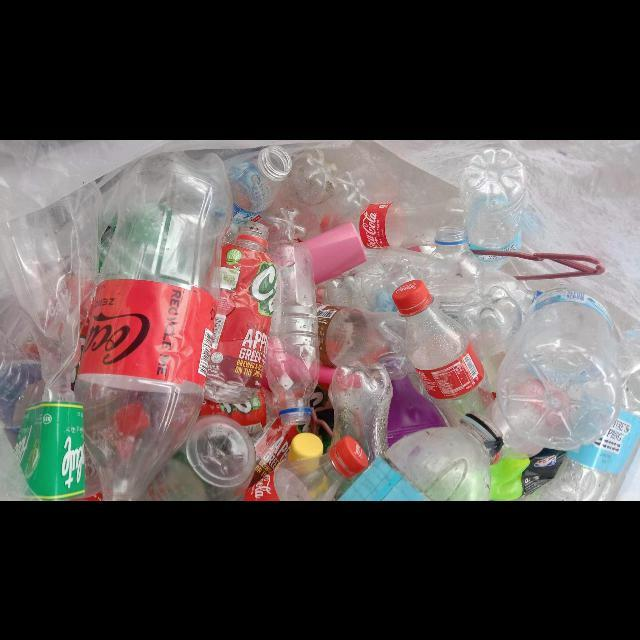plastic_bottle: (74, 151, 233, 501), (516, 330, 640, 501), (496, 286, 622, 451), (392, 279, 495, 426), (338, 413, 503, 501), (198, 221, 277, 404), (267, 240, 320, 426), (145, 414, 256, 501), (244, 436, 368, 501), (460, 147, 528, 251), (317, 303, 408, 380), (328, 361, 393, 465), (458, 285, 522, 381), (422, 225, 485, 320), (355, 197, 464, 248), (227, 144, 292, 226), (295, 172, 370, 242), (268, 148, 338, 212)
